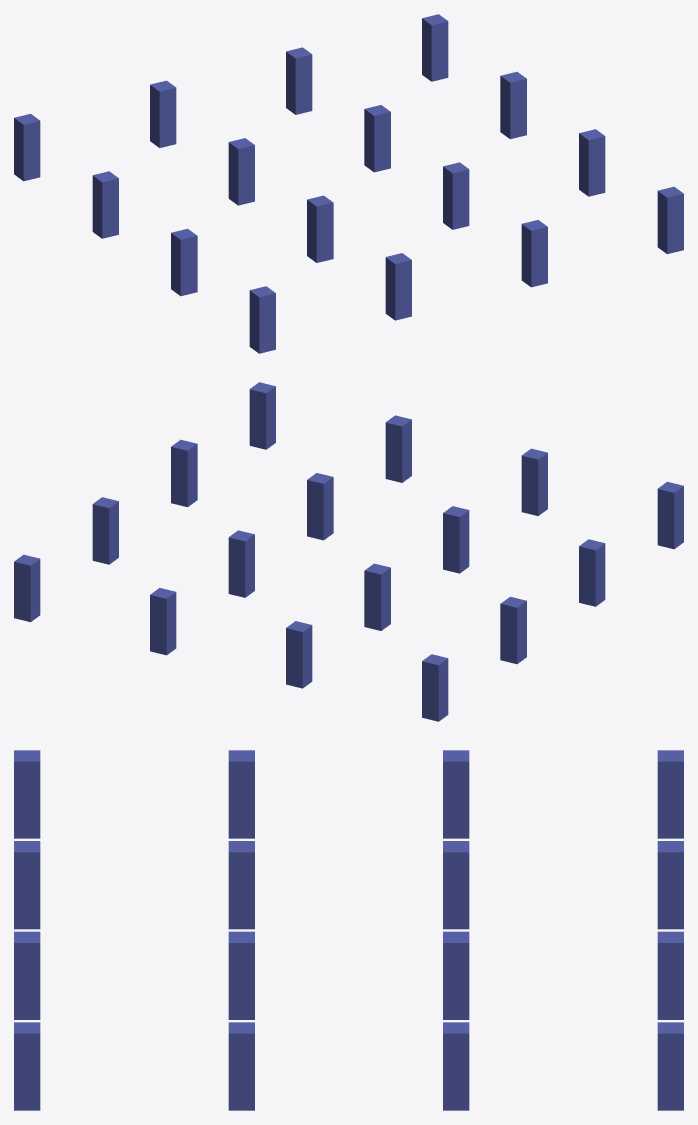
Rendered from House4.obj.
3 renders of one model, top to bottom at view 1: azimuth 30°, elevation 25°; view 2: azimuth 150°, elevation 25°; view 3: azimuth 270°, elevation 25°, orthographic. The views are drawn at different scales.
Visible parts, largest first — view 1: House4_Cube; view 2: House4_Cube; view 3: House4_Cube.
Part boxes in pixels (x1,y1,x2,y2): House4_Cube: (14, 14, 683, 353); House4_Cube: (14, 382, 683, 721); House4_Cube: (14, 750, 683, 1110).
Bounding box in the file's own units: 772 × 98.05 × 772.
